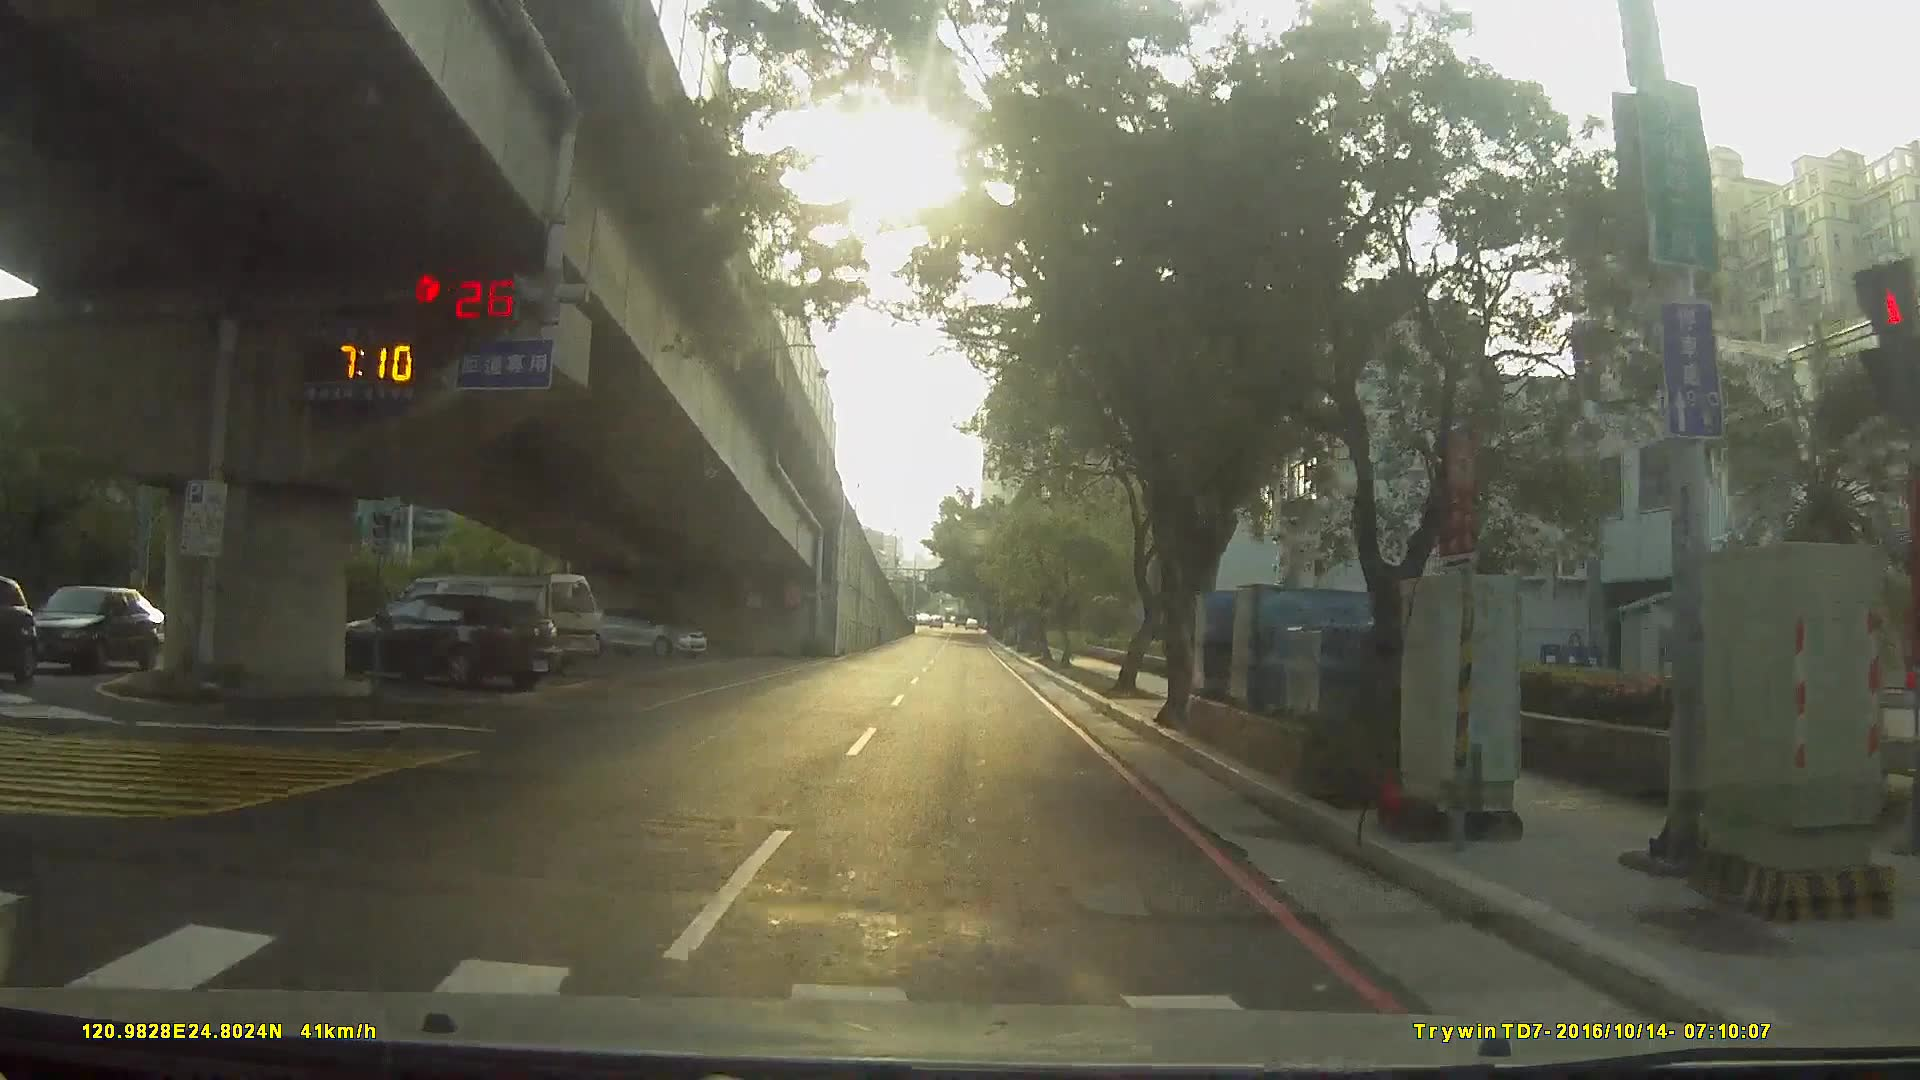vehicle: (313, 589, 553, 692), (375, 568, 593, 673), (32, 583, 175, 676), (579, 600, 705, 657), (1, 576, 46, 684)
